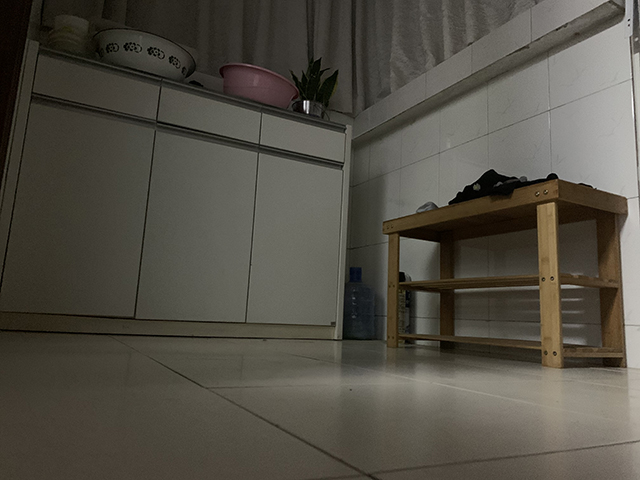cabinet: (1, 37, 354, 343)
